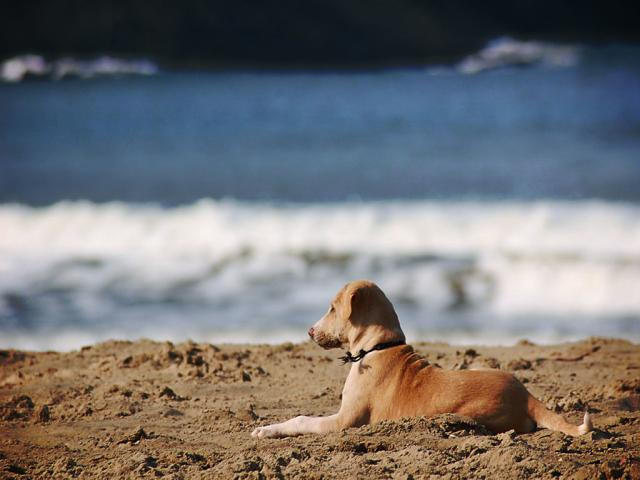Dog: (248, 278, 592, 438), (250, 279, 596, 438)
